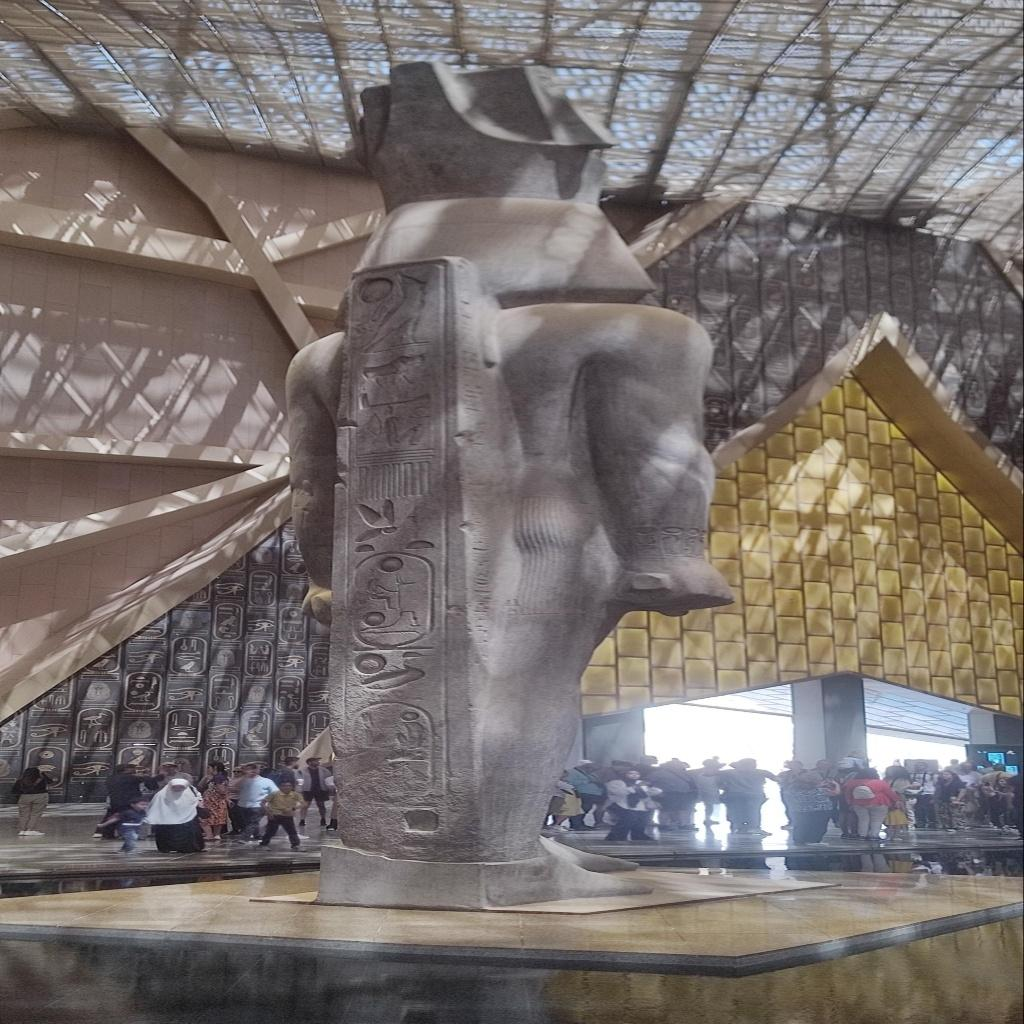Colossal Statue of Ramesses II beloved of Ptah: (275, 60, 751, 912)
